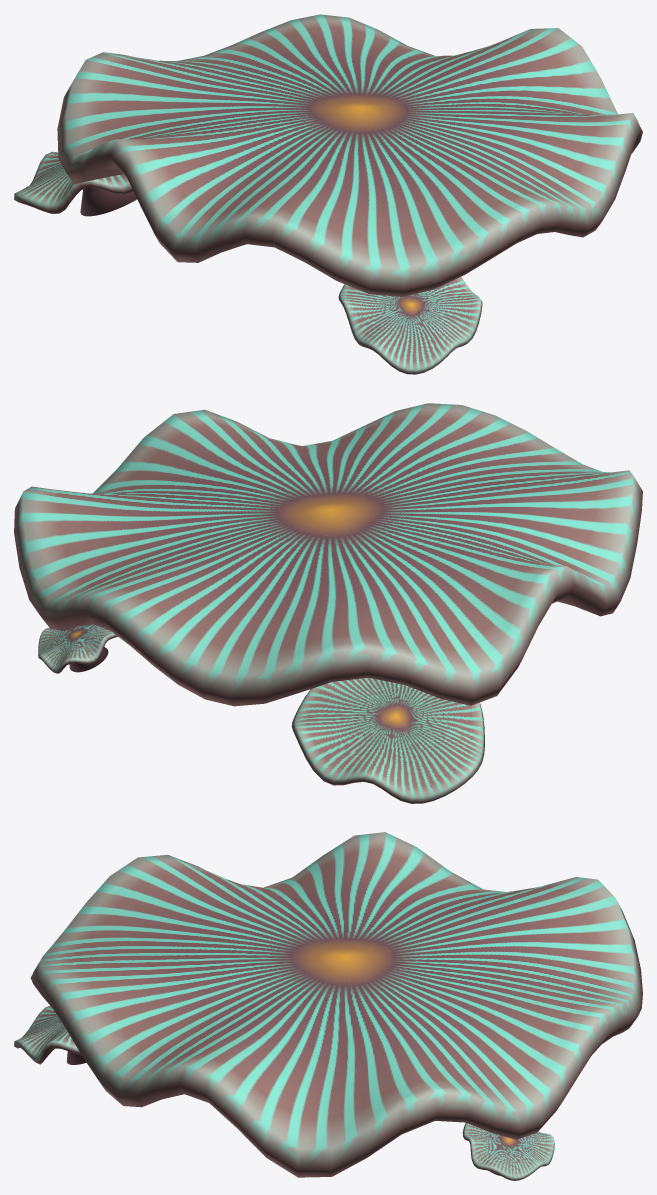
The model's file is DiscCoral.fbx.
The picture shows the model from 3 angles, top to bottom: view 1: azimuth 30°, elevation 25°; view 2: azimuth 150°, elevation 25°; view 3: azimuth 270°, elevation 25°; orthographic projection. The views are drawn at different scales.
Visible parts, largest first — view 1: DiscCoral_S3; view 2: DiscCoral_S3; view 3: DiscCoral_S3.
Part boxes in pixels (left/top/right/bottom): DiscCoral_S3: left=14, top=14, right=642, bottom=374; DiscCoral_S3: left=14, top=403, right=642, bottom=803; DiscCoral_S3: left=14, top=832, right=642, bottom=1180.
Bounding box in the file's own units: 0.5973 × 0.1669 × 0.6208.
